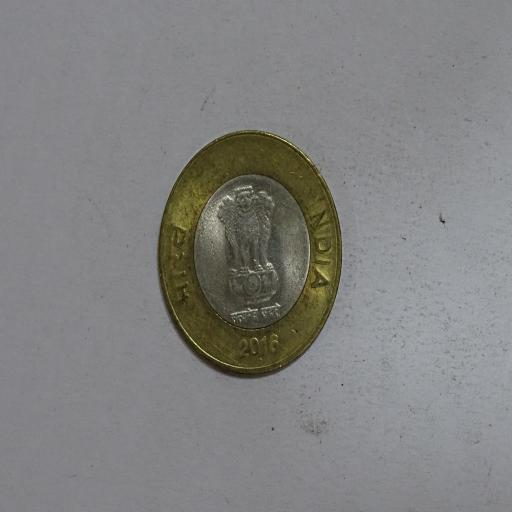rupee10: (155, 127, 341, 380)
